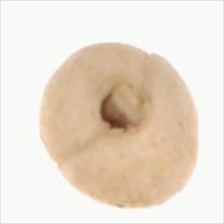L3: (99, 76, 153, 133)
L4: (38, 41, 199, 208)
